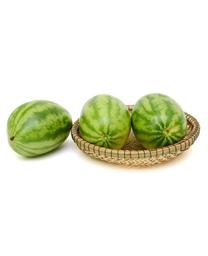watermelon: (6, 99, 74, 161), (79, 94, 132, 153), (132, 94, 185, 151)
